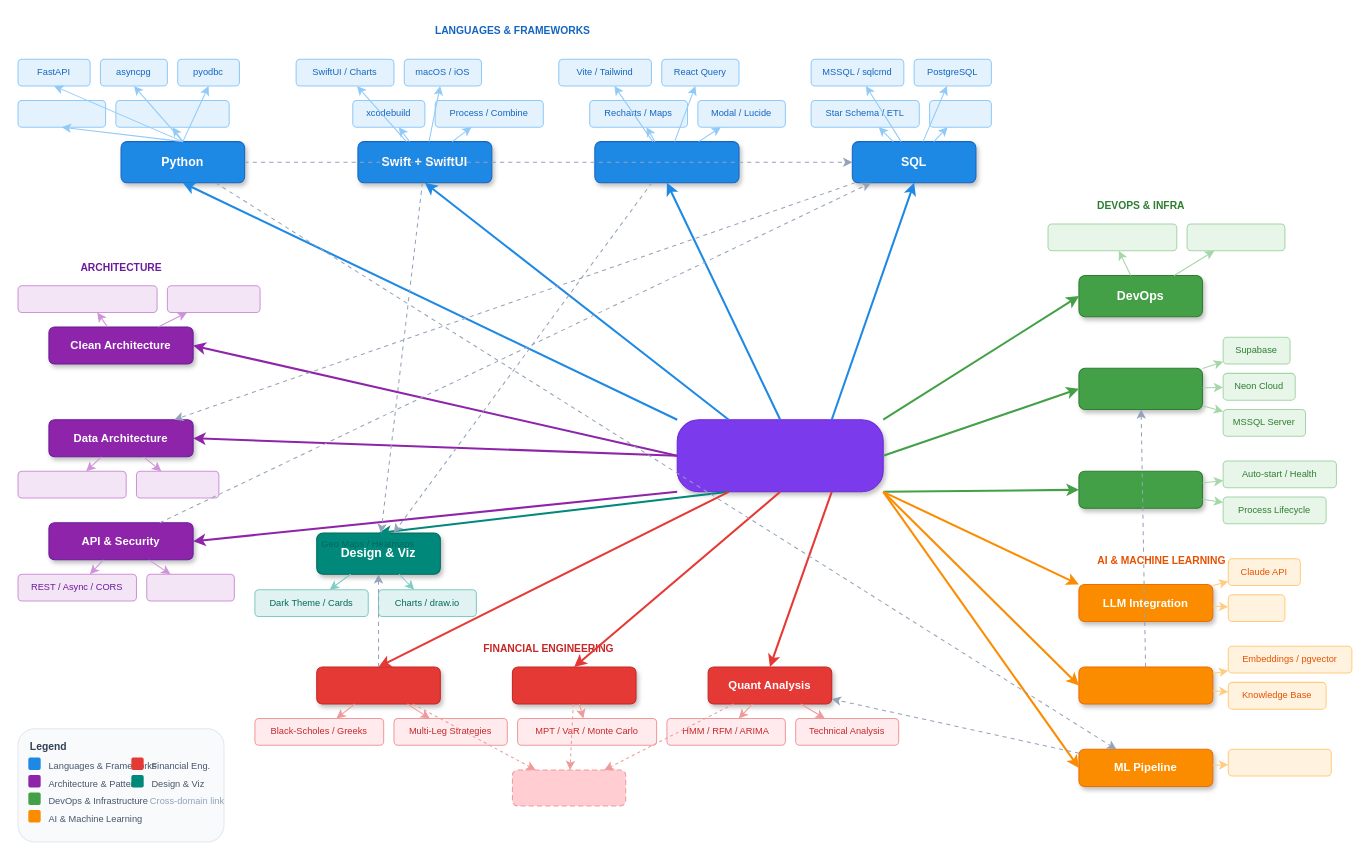
The diagram is 1370 pixels wide and 860 high, and some of its shapes have lost their labels. Here are the shapes that lost their labels. From the top down, the centre of each, then its label:
the point at 61,113: pandas / numpy
the point at 172,113: sklearn / TF / MLX
the point at 960,113: Security
the point at 667,163: TypeScript + React
the point at 1112,237: xcodebuild / npm / pip
the point at 1235,237: Git / GitHub CLI
the point at 87,299: Separation / DRY / SSOT
the point at 213,299: DI / Repository
the point at 1141,390: Databases
the point at 780,457: Angela AI Full-Stack AI Companion
the point at 71,484: Star Schema / SCD
the point at 177,484: ETL / MERGE
the point at 1141,491: Backend Mgmt
the point at 190,587: OWASP / Audit
the point at 1256,608: Ollama
the point at 379,686: Derivatives
the point at 574,686: Portfolio & Risk
the point at 1146,686: RAG
the point at 1279,762: MLX LoRA / HMM
the point at 568,787: Pythia Platform 40+ Views
